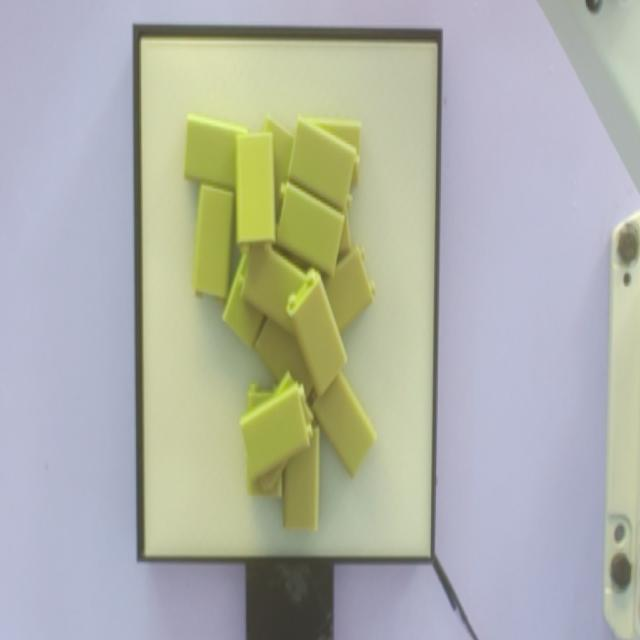bateria: (286, 266, 346, 400), (240, 382, 314, 481), (287, 117, 360, 210), (193, 187, 235, 305), (236, 132, 276, 252)
mesa: (133, 26, 441, 562)
